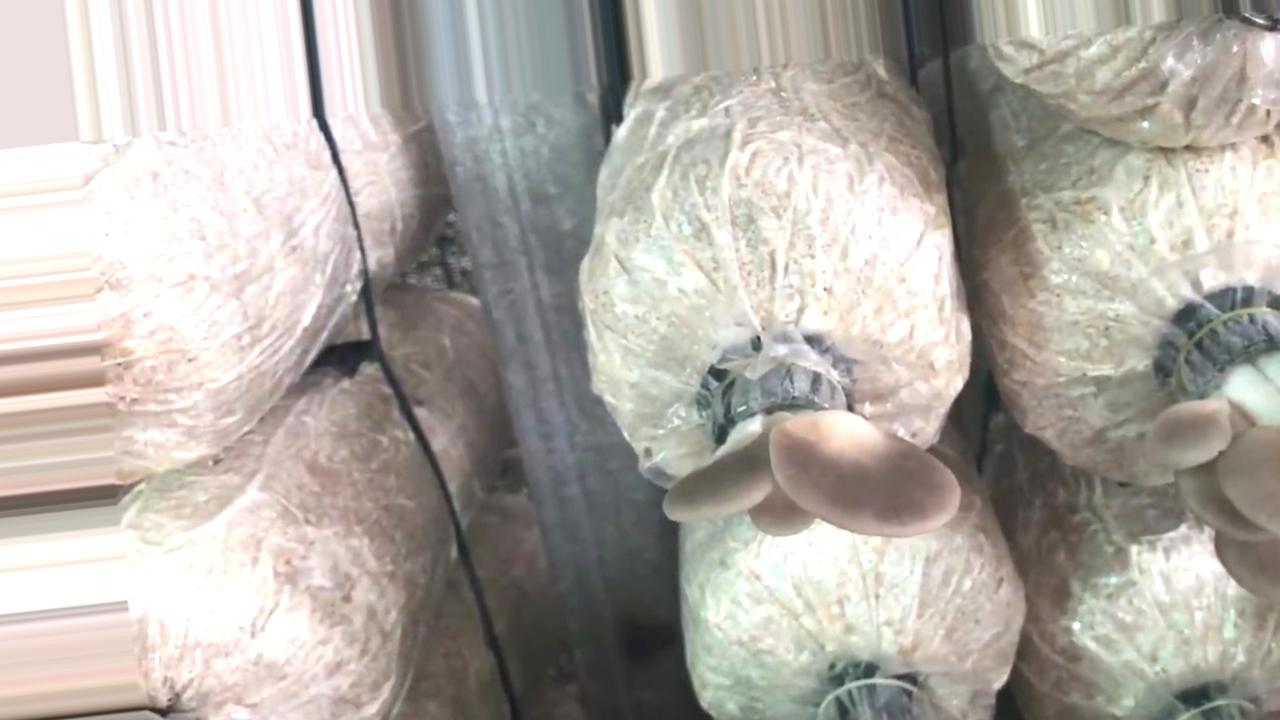nam: (675, 349, 953, 548), (1167, 305, 1280, 593)
